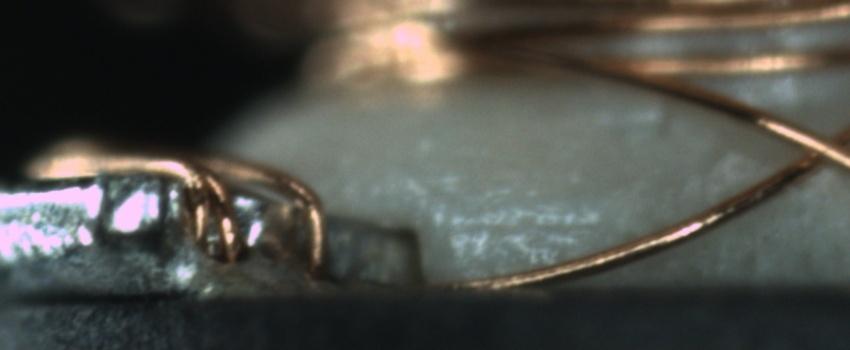CL: (771, 115, 848, 185)
DL: (444, 191, 604, 254)
TE: (23, 131, 348, 290)
